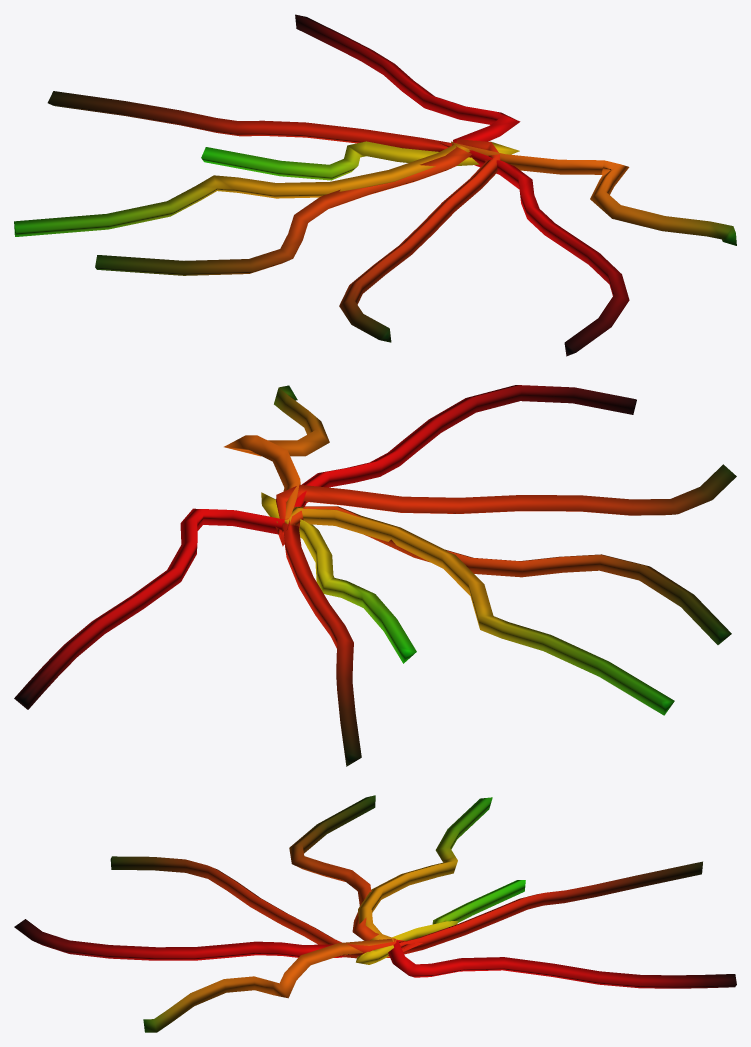
File: Alien02.fbx
3 views of the same model, one above another, from view 1: azimuth 30°, elevation 25°; view 2: azimuth 150°, elevation 25°; view 3: azimuth 270°, elevation 25° (orthographic). The views are drawn at different scales.
Visible parts, largest first — view 1: transform5; view 2: transform5; view 3: transform5.
Part boxes in pixels (box(x1,y1,x2,y2)): transform5: box(14, 14, 736, 356); transform5: box(14, 385, 736, 766); transform5: box(14, 795, 736, 1032).
Bounding box in the file's own units: 226 × 19.65 × 299.
